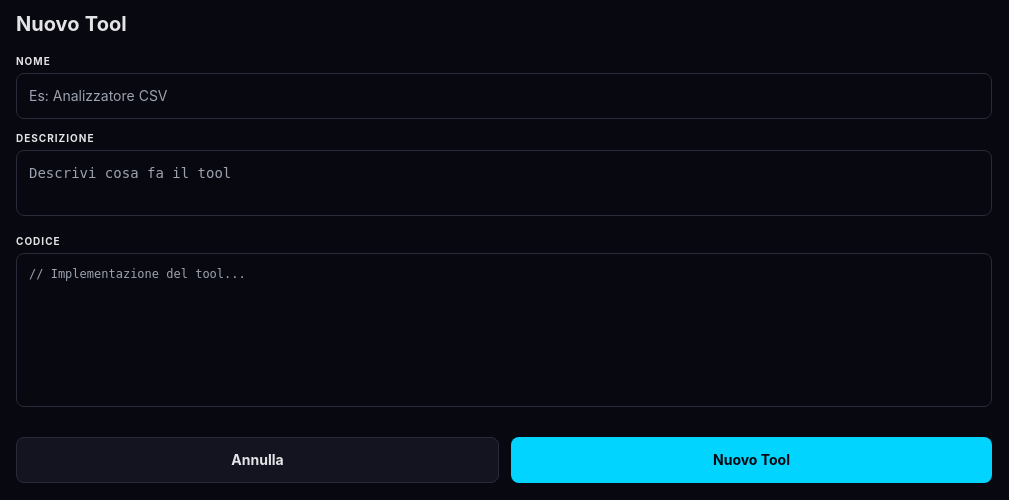
Test: ToolForm › shows validating spinner while saving
The width and height of the screenshot is (1009, 500).
Type "Test" into the field with placeholder "Es: Analizzatore CSV" at {"x": 504, "y": 96}, box [16,73,992,119]
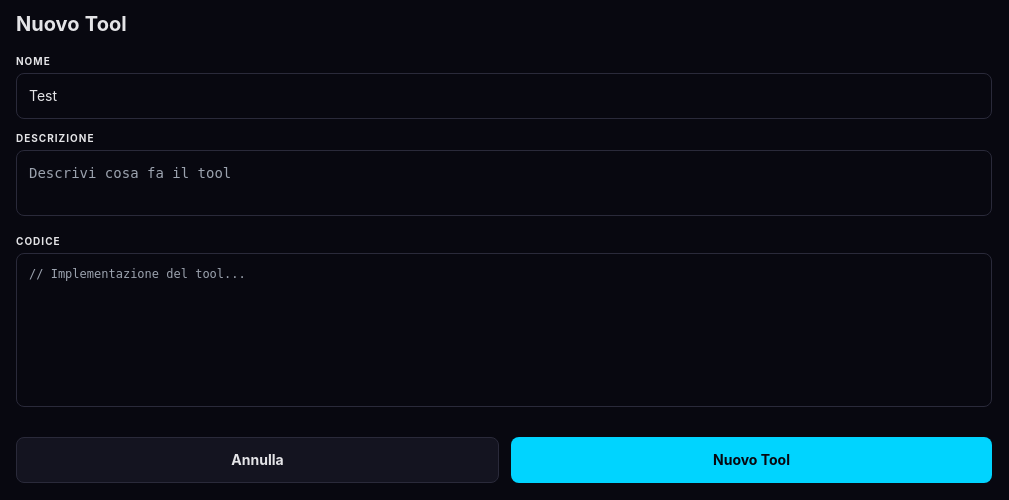
Click the button "Nuovo Tool" at {"x": 752, "y": 460}, box [511,437,992,483]
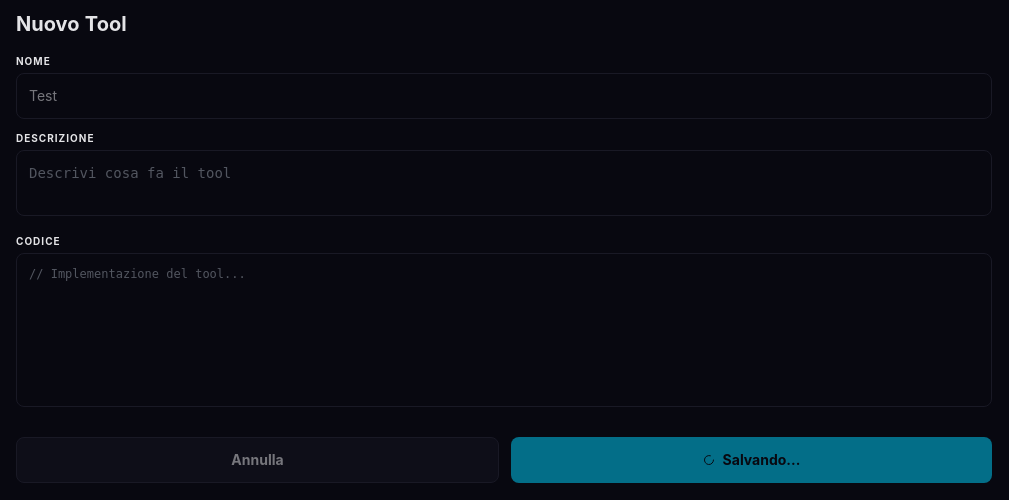
expect the text "Salvando..." is shown: met, box [723,450,800,470]
